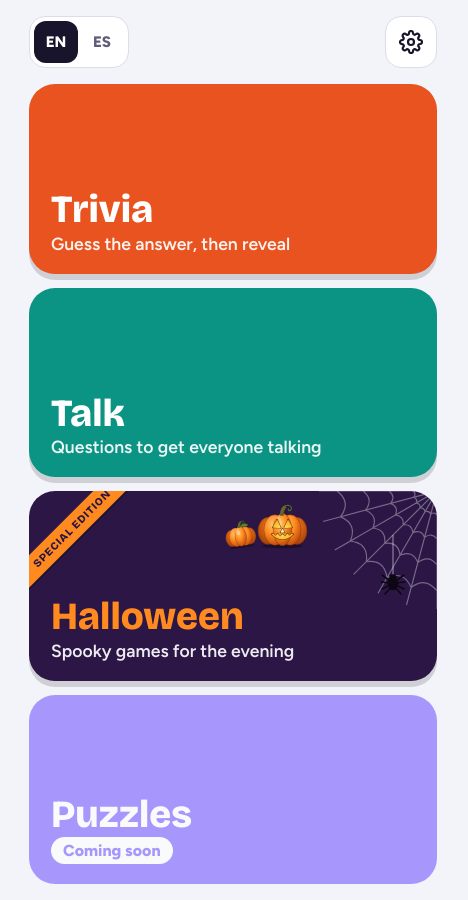
it: Language › keeps the trail and the follow-ups showing when switching on a Talk card
This screenshot has width=468, height=900.
Click the button "Talk Questions to get everyone talking".
click(88, 413)  # box [29,288,437,477]
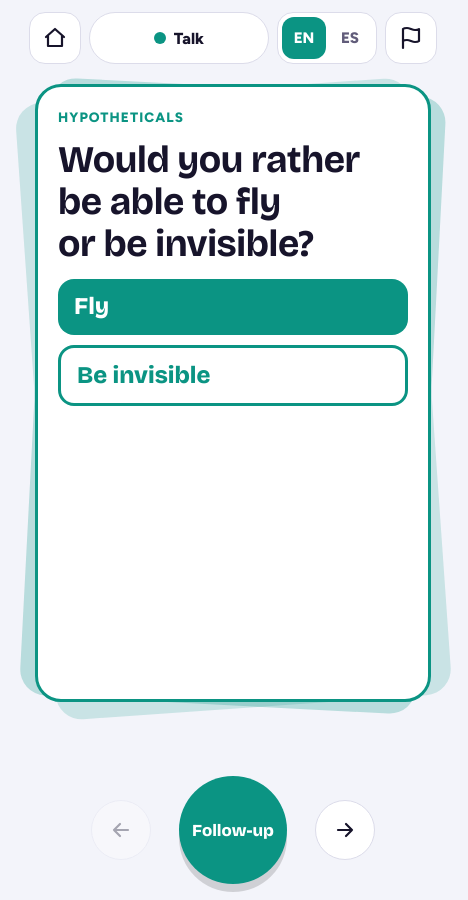
Check: the element that starts with "Hypotheticals" is shown, box [35,84,431,702]
Click the button "Follow-up".
click(233, 830)  # box [179,776,287,884]
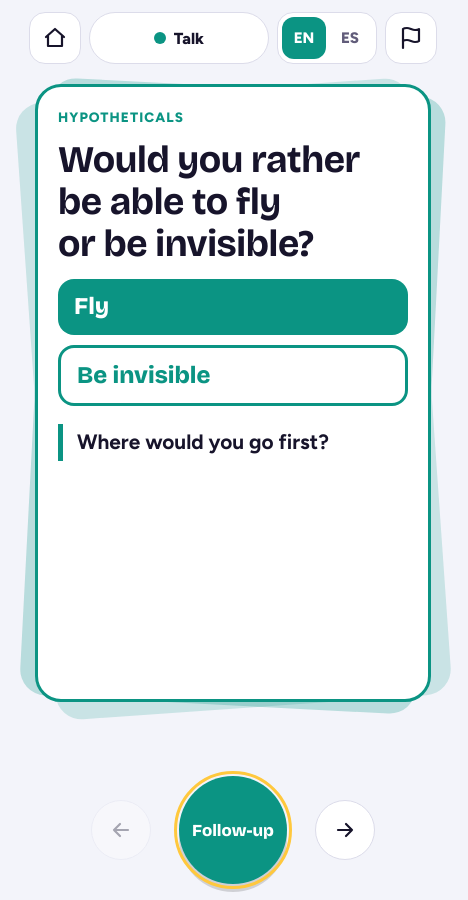
Click the button named "Next card".
click(345, 830)  # box [315,800,375,860]
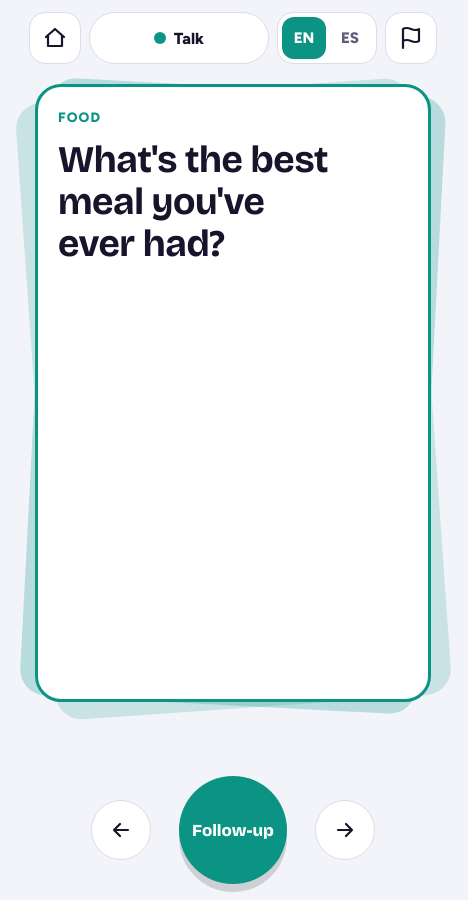
Click the button named "Previous card".
click(121, 830)  # box [91,800,151,860]
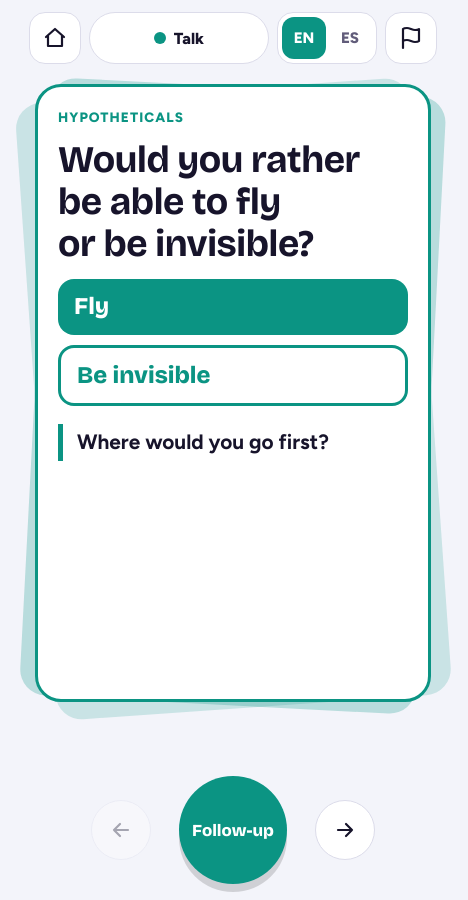
Click the button "ES".
click(350, 38)  # box [328,17,372,59]
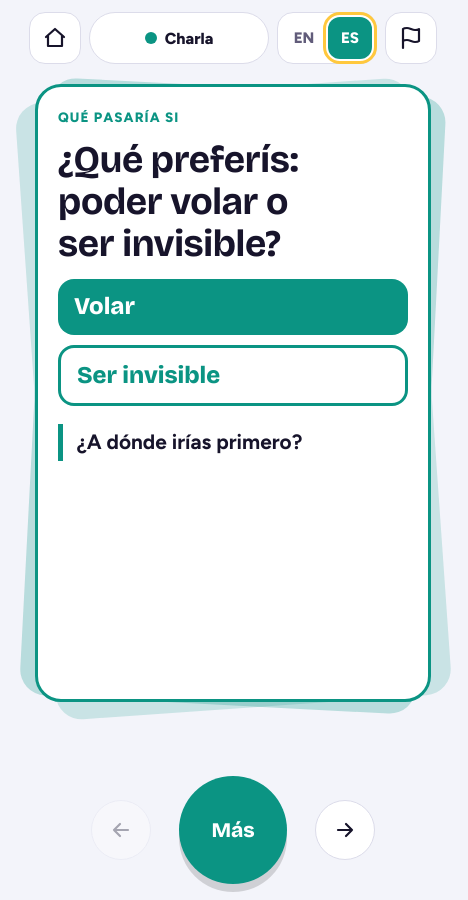
Check: the text "¿Qué preferís: poder volar o ser invisible?" is shown, box [58,137,298,266]
Click the button named "Tarjeta siguiente".
click(345, 830)  # box [315,800,375,860]
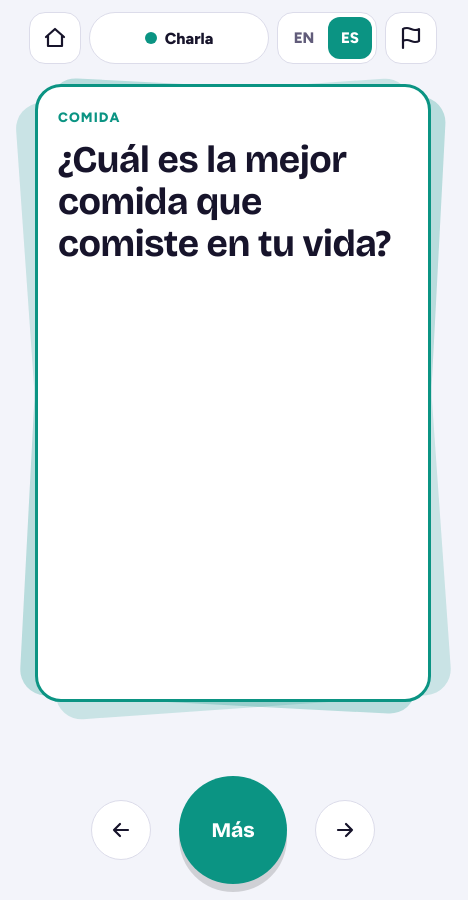
Check: the text "¿Cuál es la mejor comida que comiste en tu vida?" is shown, box [58,139,408,265]
